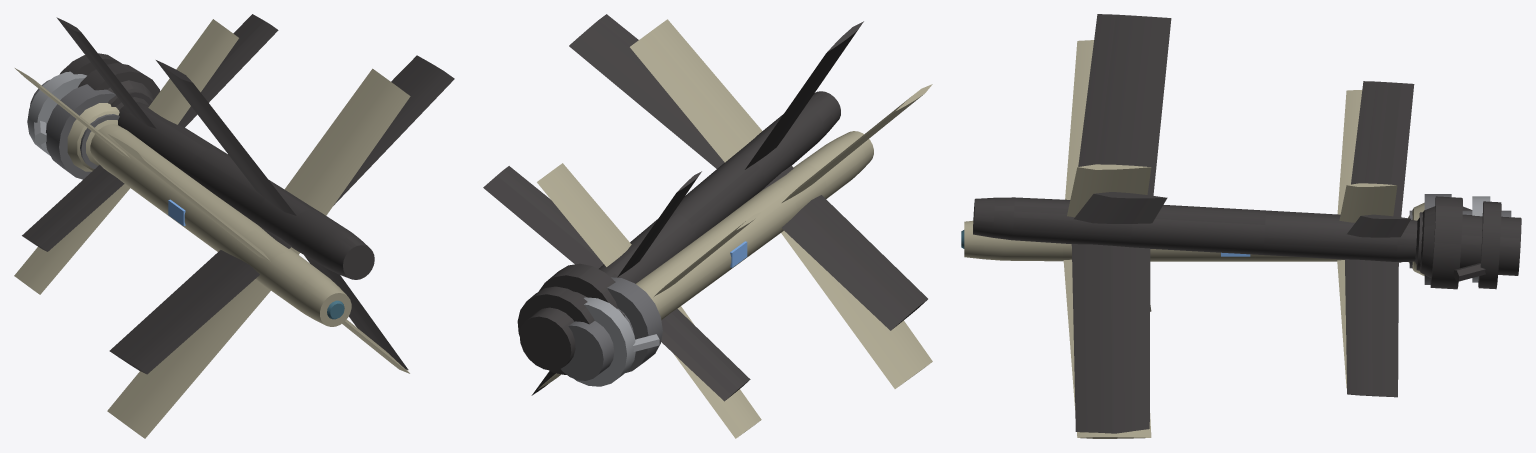
The model's file is loiterer__lancet_3.glb.
3 views of the same model, side by side, from view 1: azimuth 30°, elevation 25°; view 2: azimuth 150°, elevation 25°; view 3: azimuth 270°, elevation 25° (orthographic). The views are drawn at different scales.
Visible parts, largest first — view 1: Fuselage_Mesh, Wreck, Propeller_Mesh; view 2: Wreck, Fuselage_Mesh, Propeller_Mesh; view 3: Wreck, Fuselage_Mesh, Propeller_Mesh.
Part boxes in pixels (x1,y1,x2,y2): Fuselage_Mesh: (14,19,410,438); Wreck: (22,14,454,374); Propeller_Mesh: (27,71,119,179); Wreck: (483,14,927,401); Fuselage_Mesh: (537,19,932,438); Propeller_Mesh: (561,277,662,386); Wreck: (973,14,1521,433); Fuselage_Mesh: (961,40,1397,438); Propeller_Mesh: (1408,194,1511,284).
Size of what is drawn, in the model's own units: 1.21 by 1.21 by 1.87.
